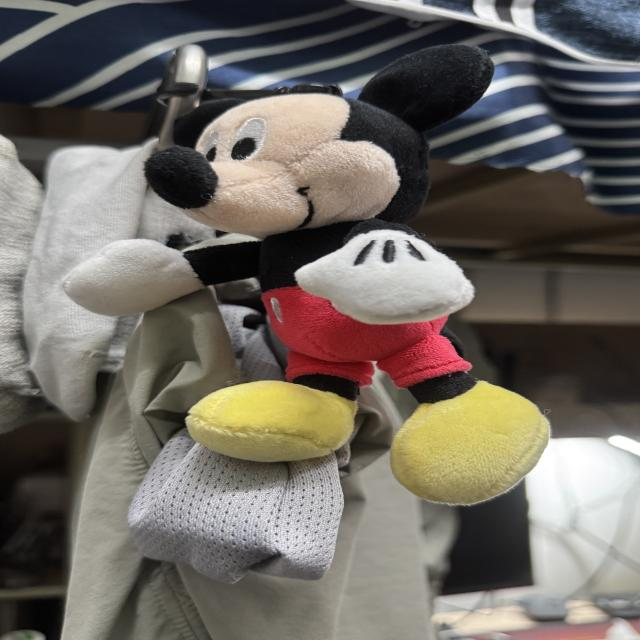mickey: (65, 45, 548, 503)
